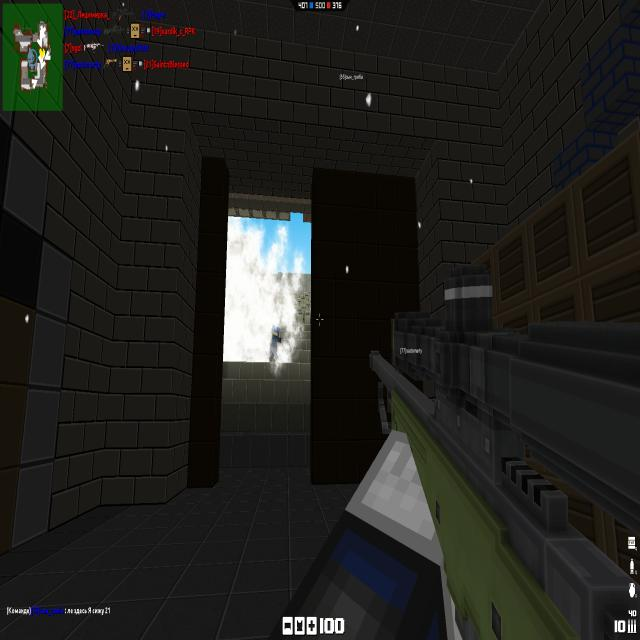player: (269, 324, 282, 363)
